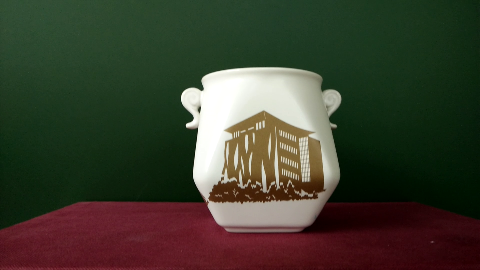library: (215, 119, 314, 195)
